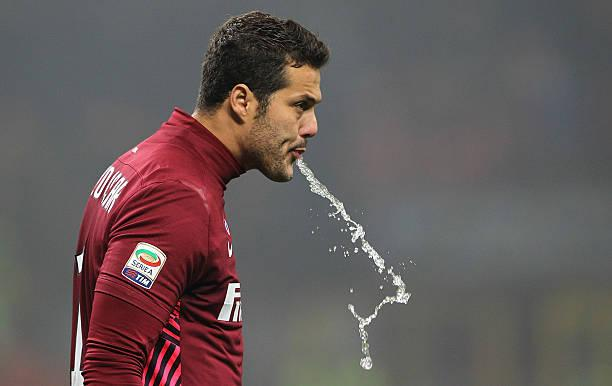Spitting: (186, 0, 358, 218)
